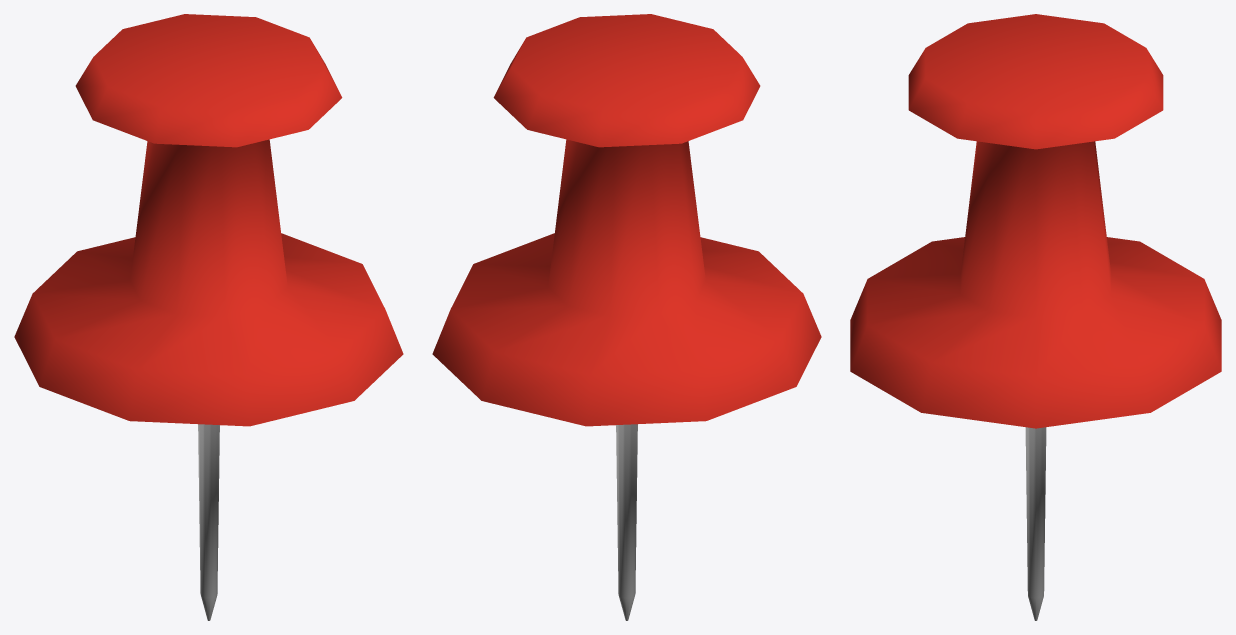
The model's file is pin.fbx.
3 views of the same model, side by side, from view 1: azimuth 30°, elevation 25°; view 2: azimuth 150°, elevation 25°; view 3: azimuth 270°, elevation 25° (orthographic).
Visible parts, largest first — view 1: pCylinder1; view 2: pCylinder1; view 3: pCylinder1.
Part boxes in pixels (x1,y1,x2,y2): pCylinder1: (14,14,403,620); pCylinder1: (432,14,821,620); pCylinder1: (850,14,1221,620).
Size of the model in its own units: 1.9 by 2.98 by 1.8.
